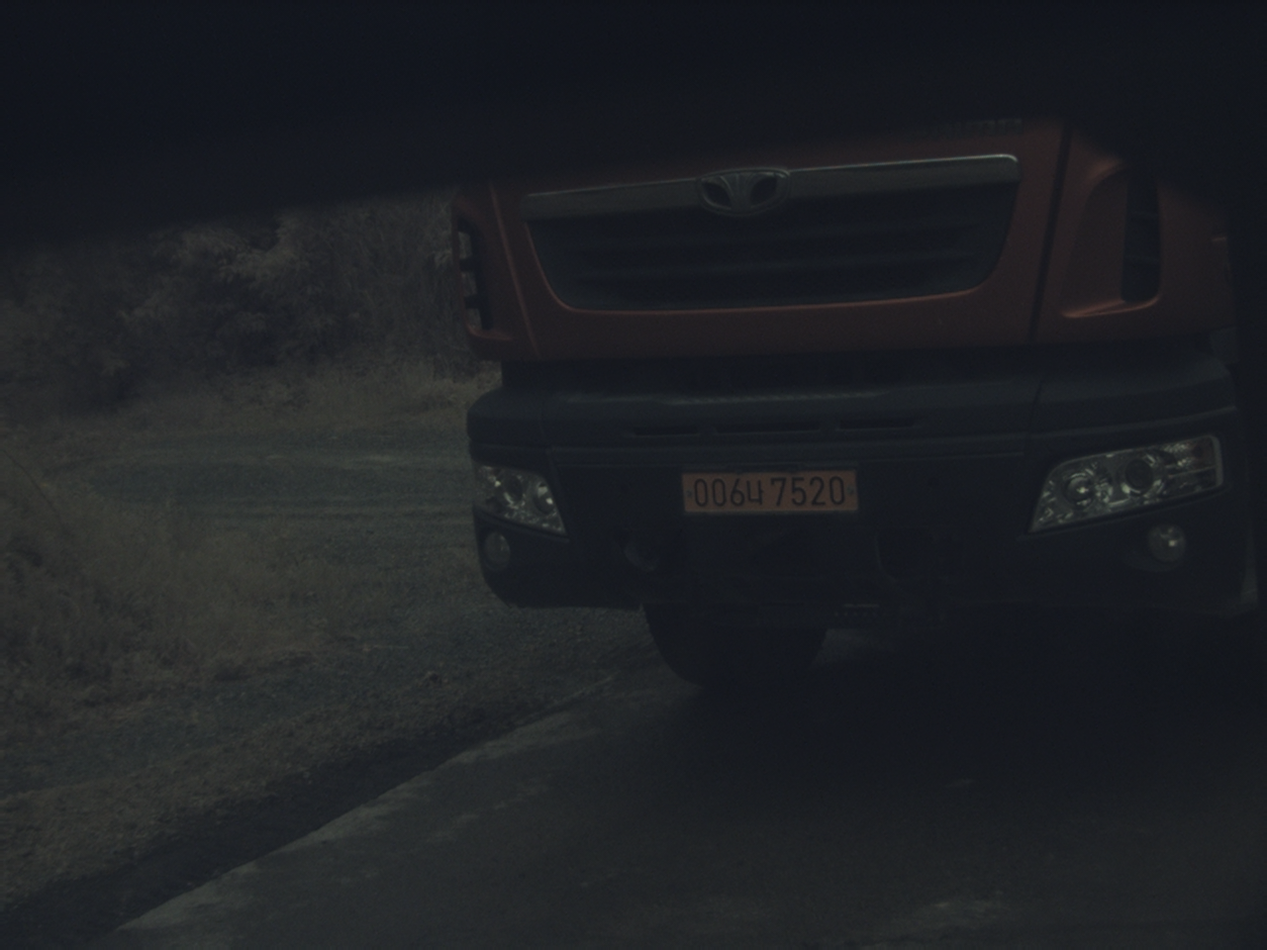license_plate: (683, 471, 856, 512)
truck: (455, 119, 1255, 685)
